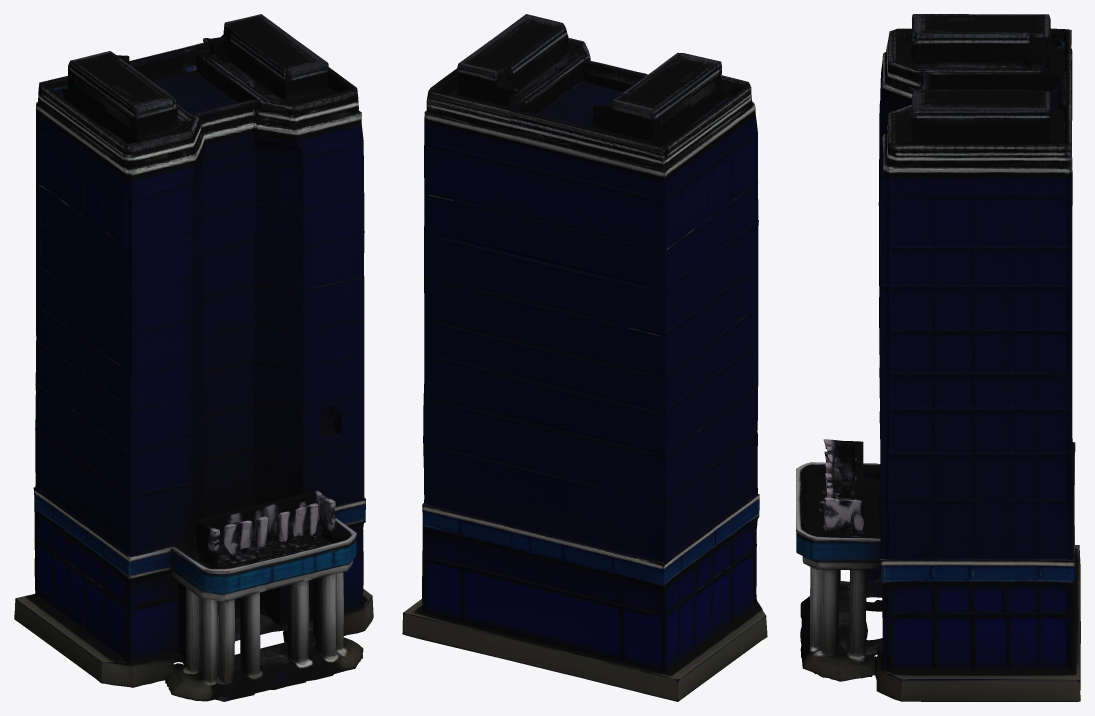
The model's file is tower.glb.
The picture shows the model from 3 angles, left to right: view 1: azimuth 30°, elevation 25°; view 2: azimuth 150°, elevation 25°; view 3: azimuth 270°, elevation 25°; orthographic projection. The views are drawn at different scales.
Visible parts, largest first — view 1: world; view 2: world; view 3: world.
Part boxes in pixels (x1,y1,x2,y2): world: (14, 14, 373, 701); world: (402, 14, 767, 701); world: (796, 14, 1080, 701).
Size of the model in its own units: 0.508 by 1 by 0.4509.
Materials: 1 (1 with a texture image).
